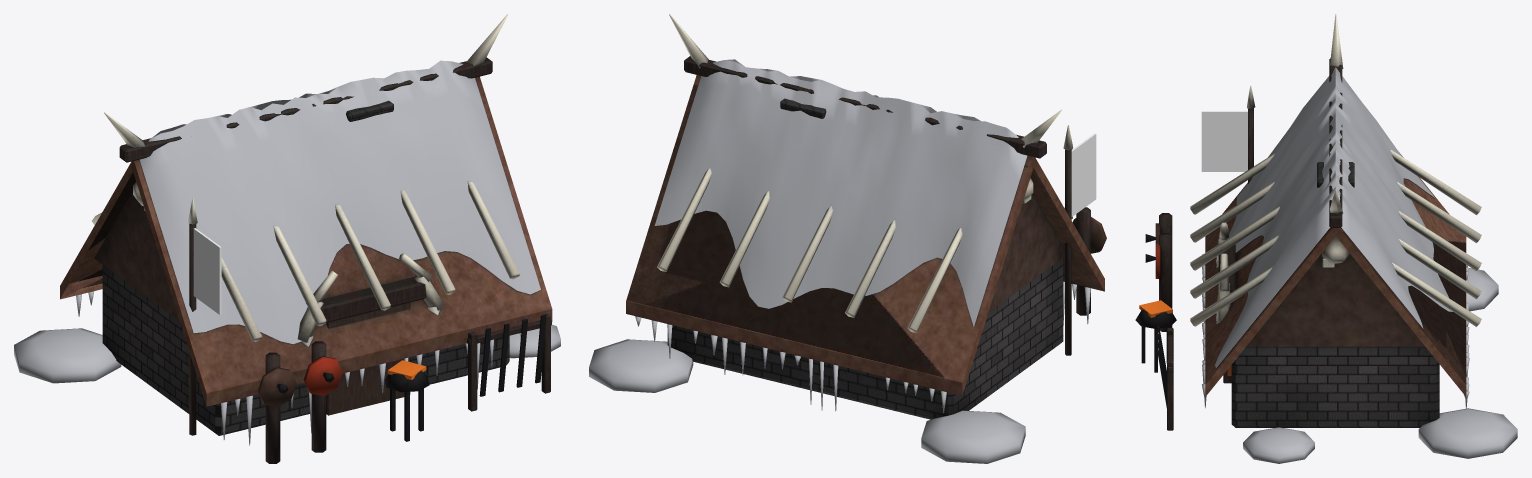
Rendered from asch_barracks.glb.
The picture shows the model from 3 angles, left to right: view 1: azimuth 30°, elevation 25°; view 2: azimuth 150°, elevation 25°; view 3: azimuth 270°, elevation 25°; orthographic projection. The views are drawn at different scales.
Visible parts, largest first — view 1: asch_barracks, Schnee, Fahne1; view 2: Schnee, asch_barracks, Fahne1; view 3: asch_barracks, Schnee, Fahne1.
Boxes of the visible parts, x1,y1,x2,y2 form: asch_barracks: [60, 14, 552, 463]; Schnee: [14, 60, 560, 445]; Fahne1: [193, 228, 221, 314]; Schnee: [589, 59, 1090, 463]; asch_barracks: [626, 14, 1106, 419]; Fahne1: [1071, 133, 1096, 216]; asch_barracks: [1135, 14, 1481, 430]; Schnee: [1202, 67, 1517, 463]; Fahne1: [1201, 111, 1247, 171].
Bounding box in the file's own units: 4.8 × 3.25 × 4.04.
3 materials, 1 textured.
